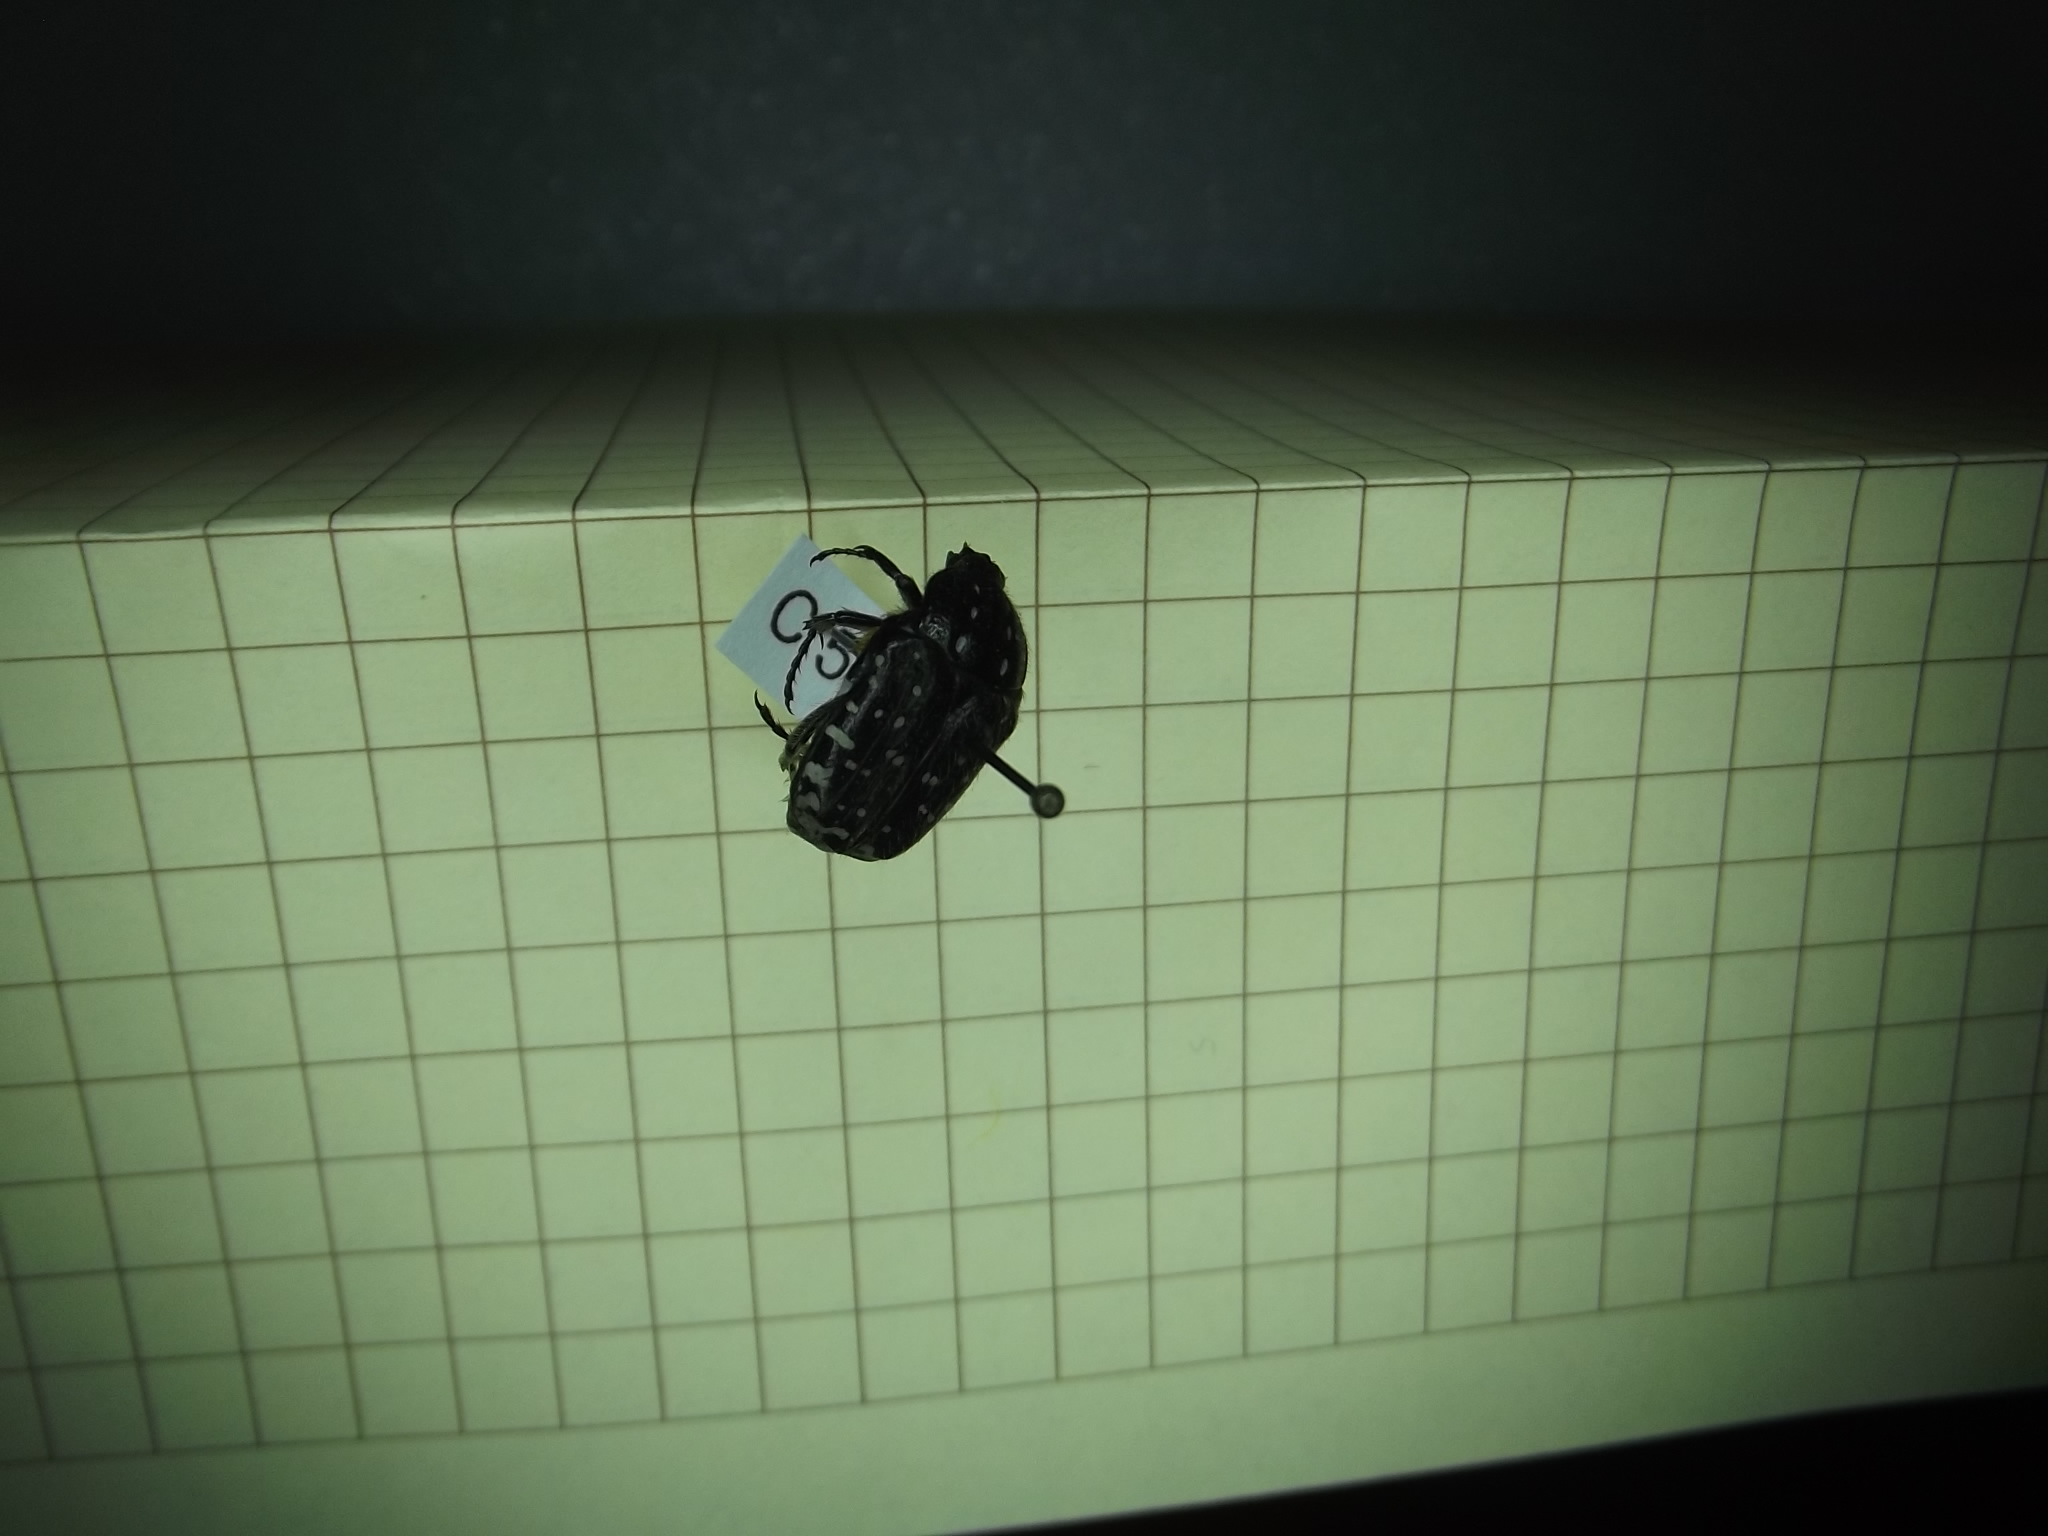Oxythyrea_funesta: (727, 513, 1027, 868)
